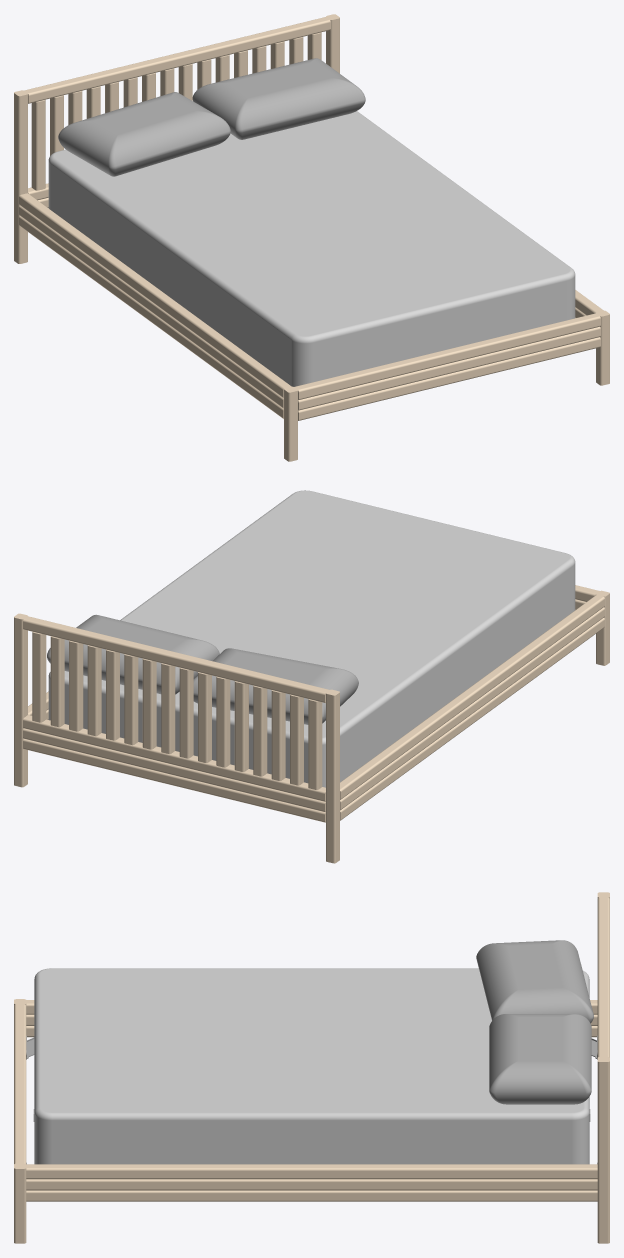
File: bed-frame.glb
The picture shows the model from 3 angles, top to bottom: view 1: azimuth 30°, elevation 25°; view 2: azimuth 150°, elevation 25°; view 3: azimuth 270°, elevation 25°; orthographic projection. The views are drawn at different scales.
Visible parts, largest first — view 1: Materasso-1, Cuscino-1, Cuscino-2, Trave_190-1, Trave_120-1, Trave_120_forata-4, Trave_120-3, Trave_120-2, Trave_190-3, Trave_190-2, Trave_80-1, Trave_60-16 (+4 smaller); view 2: Materasso-1, Trave_190-1, Trave_120_forata-4, Cuscino-1, Cuscino-2, Trave_120-2, Trave_120-1, Trave_120-3, Trave_190-2, Trave_190-3, Trave_80-1, Trave_80-2 (+17 smaller); view 3: Materasso-1, Trave_190-1, Cuscino-2, Cuscino-1, Trave_190-2, Trave_190-3, Trave_80-2, Trave_120_forata-4, Trave_120-1, Trave_50-2.
Part boxes in pixels (<box>): Materasso-1: <box>48,111,575,386</box>; Cuscino-1: <box>58,92,230,176</box>; Cuscino-2: <box>192,58,365,139</box>; Trave_190-1: <box>19,193,291,398</box>; Trave_120-1: <box>294,313,600,400</box>; Trave_120_forata-4: <box>24,17,330,103</box>; Trave_120-3: <box>298,326,600,410</box>; Trave_120-2: <box>298,337,600,420</box>; Trave_190-3: <box>19,205,283,408</box>; Trave_190-2: <box>19,216,283,418</box>; Trave_80-1: <box>14,90,27,263</box>; Trave_60-16: <box>31,99,45,190</box>; Materasso-1: <box>48,490,575,787</box>; Trave_190-1: <box>340,595,604,799</box>; Trave_120_forata-4: <box>23,616,329,703</box>; Cuscino-1: <box>193,648,358,724</box>; Cuscino-2: <box>47,614,219,694</box>; Trave_120-2: <box>23,715,325,801</box>; Trave_120-1: <box>23,728,325,812</box>; Trave_120-3: <box>23,739,325,822</box>; Trave_190-2: <box>340,618,604,820</box>; Trave_190-3: <box>340,607,604,810</box>; Trave_80-1: <box>326,689,339,863</box>; Trave_80-2: <box>14,613,27,787</box>; Materasso-1: <box>34,968,589,1164</box>; Trave_190-1: <box>26,1164,597,1179</box>; Cuscino-2: <box>489,1014,591,1104</box>; Cuscino-1: <box>476,940,593,1023</box>; Trave_190-2: <box>26,1190,597,1201</box>; Trave_190-3: <box>26,1179,597,1190</box>; Trave_80-2: <box>597,1057,609,1243</box>; Trave_120_forata-4: <box>597,897,609,1057</box>; Trave_120-1: <box>14,1004,26,1163</box>; Trave_50-2: <box>14,1163,26,1243</box>.
Size of the model in its own units: 1.36 by 0.68 by 2.02.
